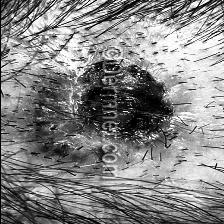Potentially Malignant Skin Tumors: (104, 73, 172, 133)
